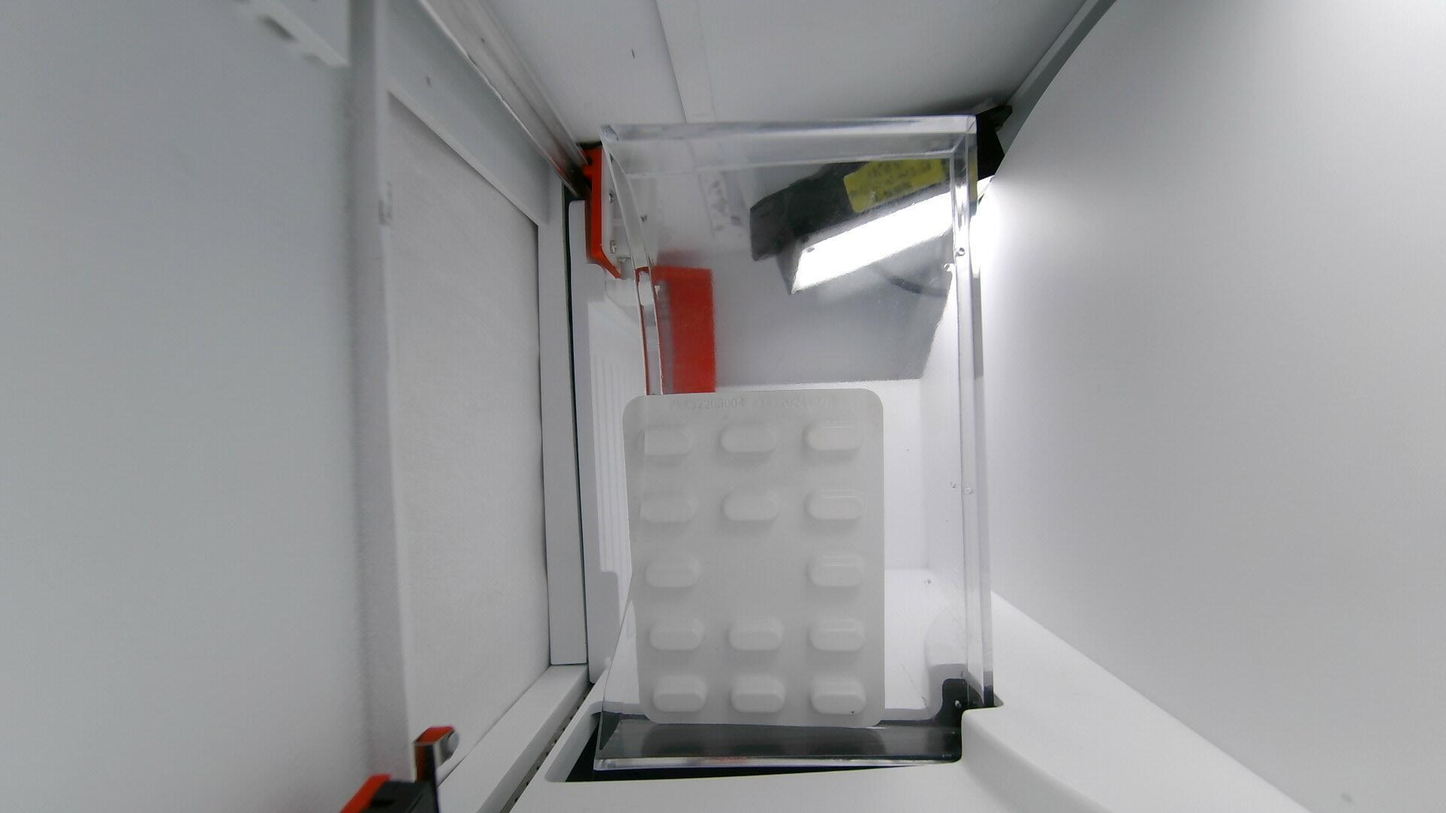Light Front: (624, 388, 885, 726)
Pill Front: (626, 422, 692, 464), (804, 421, 867, 455), (718, 422, 777, 458), (653, 676, 707, 713), (808, 554, 865, 588), (731, 678, 785, 713), (645, 556, 702, 589), (809, 619, 865, 651), (728, 619, 783, 651), (723, 491, 779, 522), (806, 491, 863, 521), (649, 620, 704, 651), (810, 686, 865, 714), (641, 495, 696, 523)
